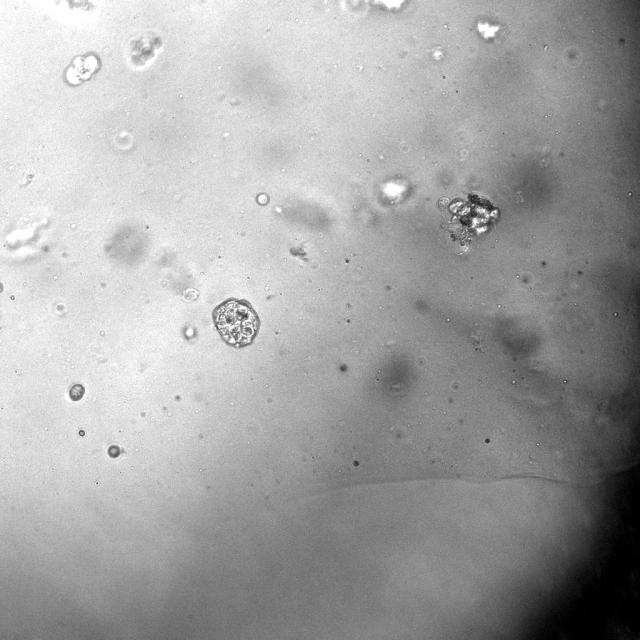organoid: (438, 193, 499, 244), (212, 297, 259, 348), (124, 30, 163, 71), (64, 51, 101, 86), (66, 382, 86, 402), (107, 444, 121, 458)
